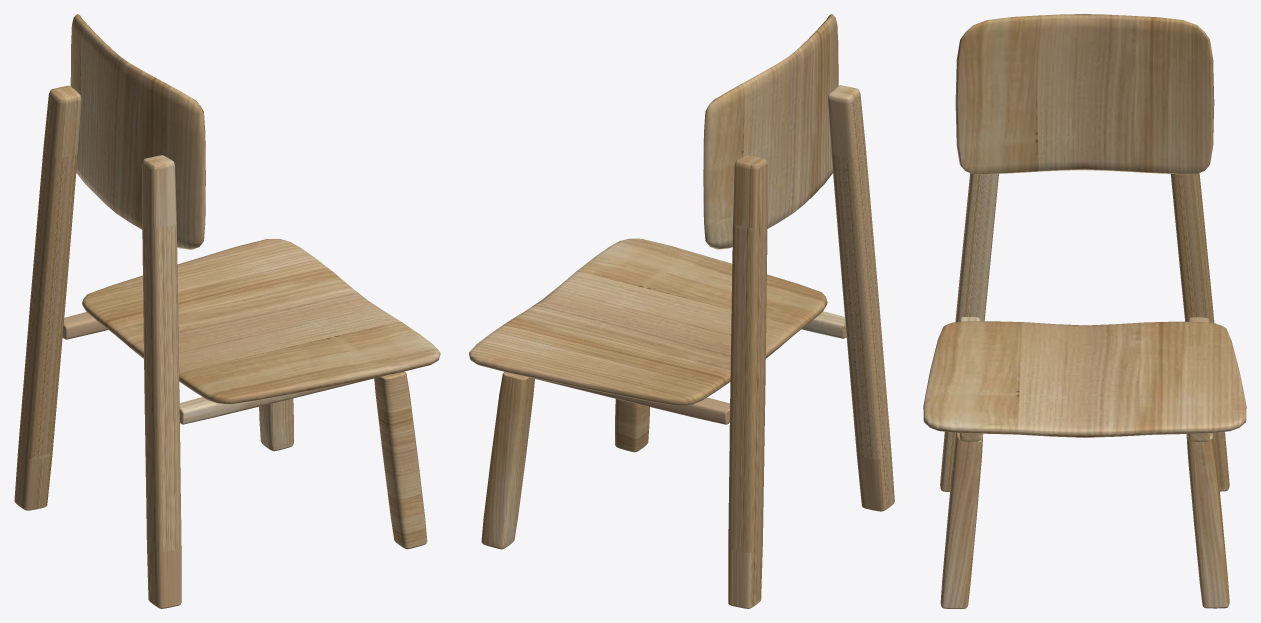
Rendered from CHAIRUVOK1.fbx.
The picture shows the model from 3 angles, left to right: view 1: azimuth 30°, elevation 25°; view 2: azimuth 150°, elevation 25°; view 3: azimuth 270°, elevation 25°; orthographic projection. The views are drawn at different scales.
Visible parts, largest first — view 1: pCube1, pasted__pCube3 (×2), pCube2, pCube3, pasted__pasted__pCube3 (×2), pasted__pasted__pasted__pCube3; view 2: pCube1, pCube2, pasted__pCube3 (×2), pCube3, pasted__pasted__pCube3 (×2), pasted__pasted__pasted__pCube3; view 3: pCube2, pCube1, pasted__pCube3 (×2), pCube3, pasted__pasted__pCube3.
Boxes of the visible parts, x1,y1,x2,y2 form: pCube1: (82,239,440,404); pasted__pCube3 (×2): (14,85,427,549); pCube2: (70,14,205,249); pCube3: (142,155,181,608); pasted__pasted__pCube3 (×2): (62,312,293,451); pasted__pasted__pasted__pCube3: (179,375,384,424); pCube1: (469,238,827,405); pCube2: (703,14,838,249); pasted__pCube3 (×2): (615,155,767,608); pCube3: (828,85,894,511); pasted__pasted__pCube3 (×2): (481,372,729,549); pasted__pasted__pasted__pCube3: (801,311,846,338); pCube2: (955,14,1214,174); pCube1: (923,321,1246,437); pasted__pCube3 (×2): (940,173,1229,608); pCube3: (940,173,998,491); pasted__pasted__pCube3: (1186,433,1229,608).
Size of the model in its own units: 32.95 by 54.94 by 33.27.
Materials: 1 (1 with a texture image).
